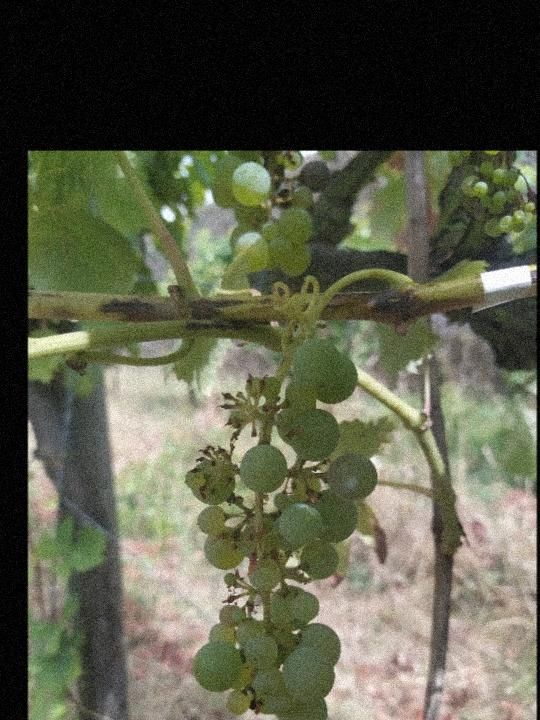grape: (182, 336, 380, 720)
